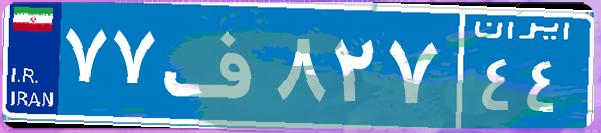2: (330, 28, 385, 110)
4: (475, 38, 525, 113), (525, 38, 570, 115)
7: (385, 28, 445, 110), (57, 26, 110, 107), (110, 28, 158, 105)
8: (273, 28, 330, 110)
ف: (158, 15, 273, 115)
